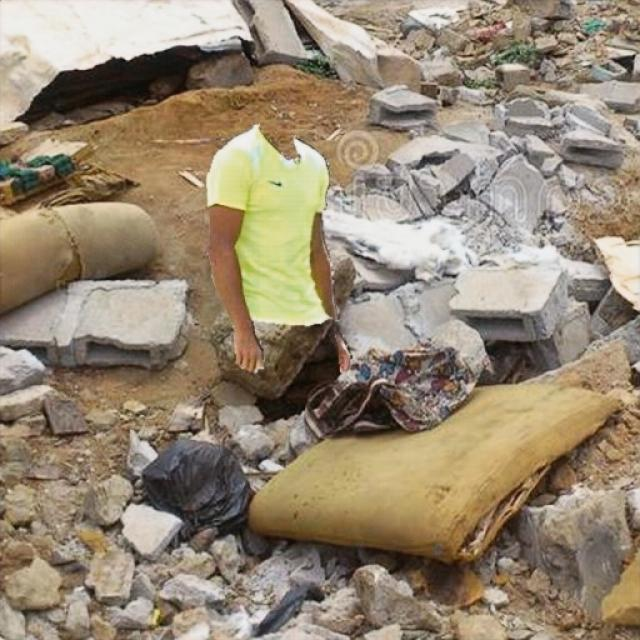Person in Rubble: (206, 124, 352, 372)
